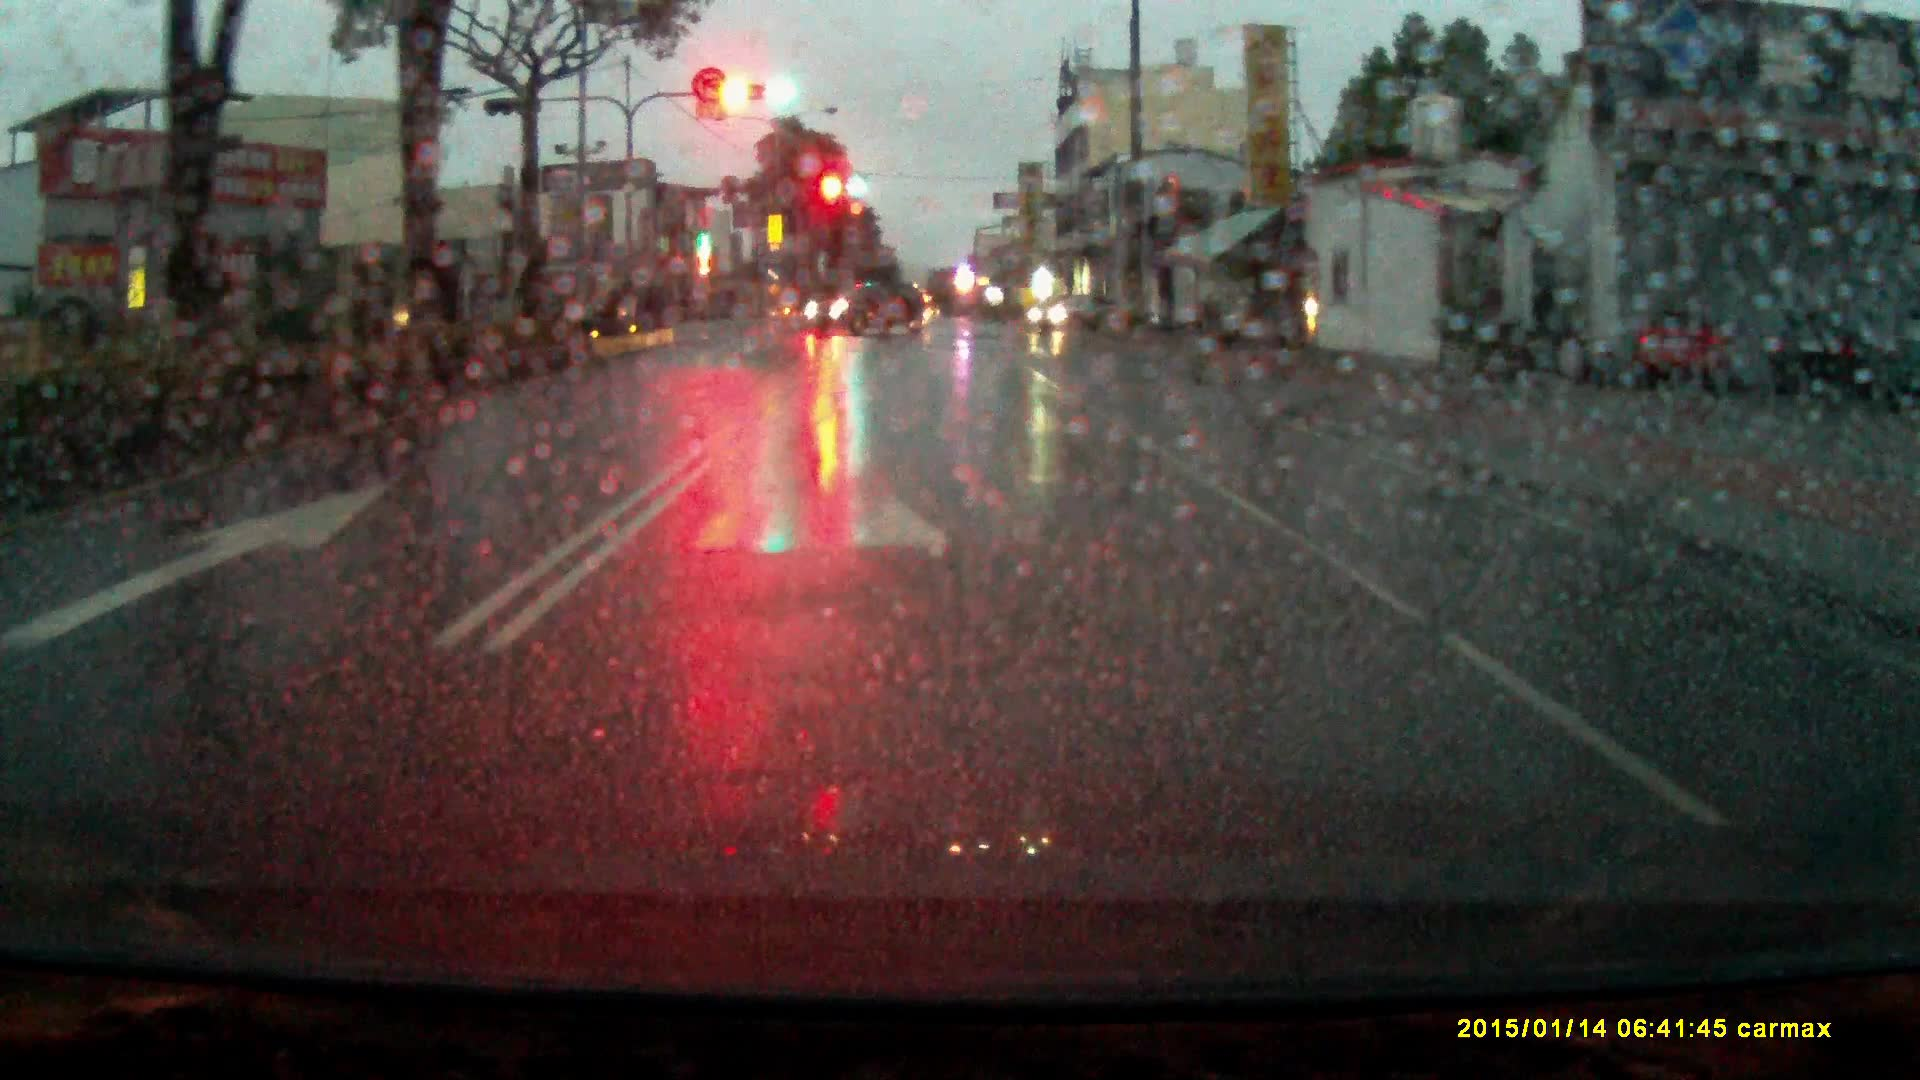vehicle: (802, 278, 936, 339), (1031, 290, 1133, 342)
